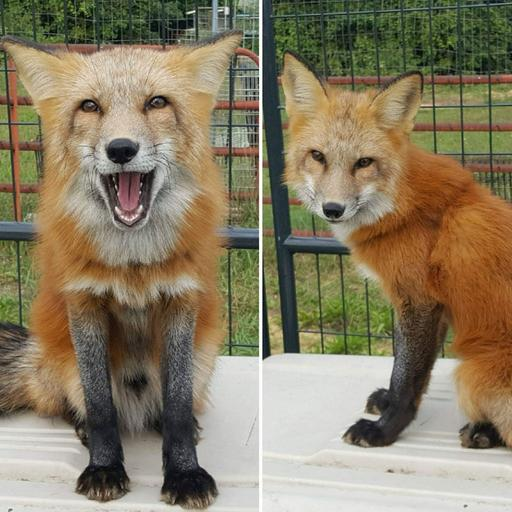Fox: (0, 29, 246, 510), (276, 41, 512, 454)
